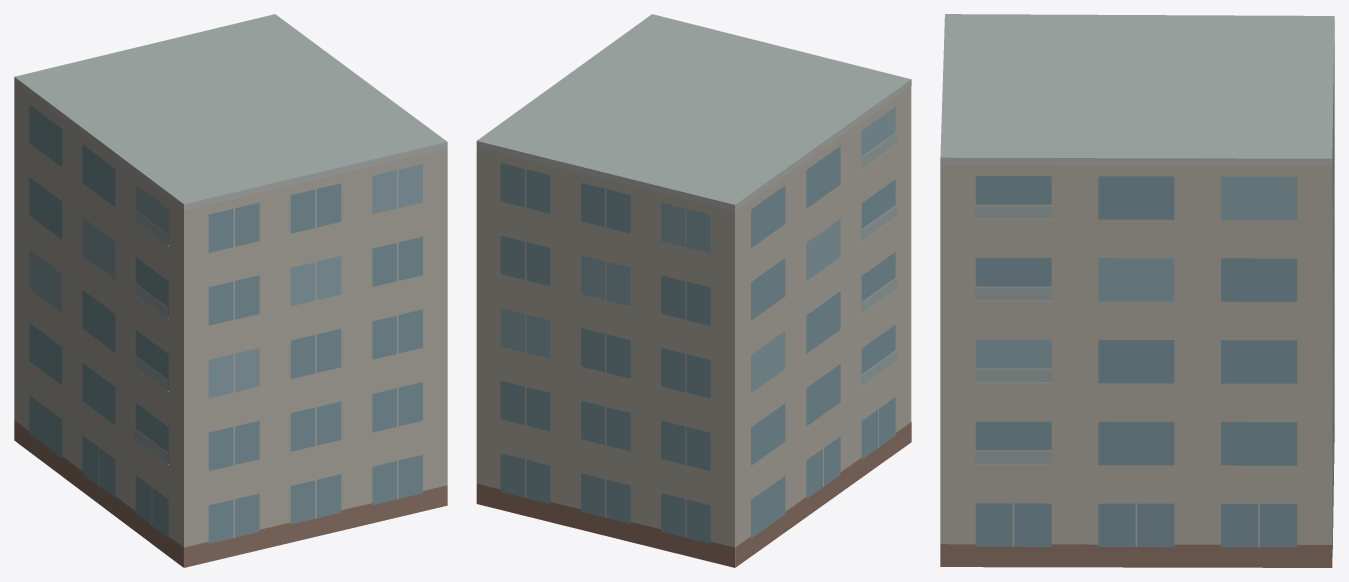
File: survey-upis-32866350.glb
3 renders of one model, left to right at view 1: azimuth 30°, elevation 25°; view 2: azimuth 150°, elevation 25°; view 3: azimuth 270°, elevation 25°, orthographic. The views are drawn at different scales.
Parts seen in each view (by area): view 1: survey-upis-32866350.tmp; view 2: survey-upis-32866350.tmp; view 3: survey-upis-32866350.tmp.
Part boxes in pixels (x1,y1,x2,y2): survey-upis-32866350.tmp: [14, 14, 447, 567]; survey-upis-32866350.tmp: [476, 14, 911, 567]; survey-upis-32866350.tmp: [940, 14, 1334, 567].
Bounding box in the file's own units: 10.15 × 13.35 × 11.67.
